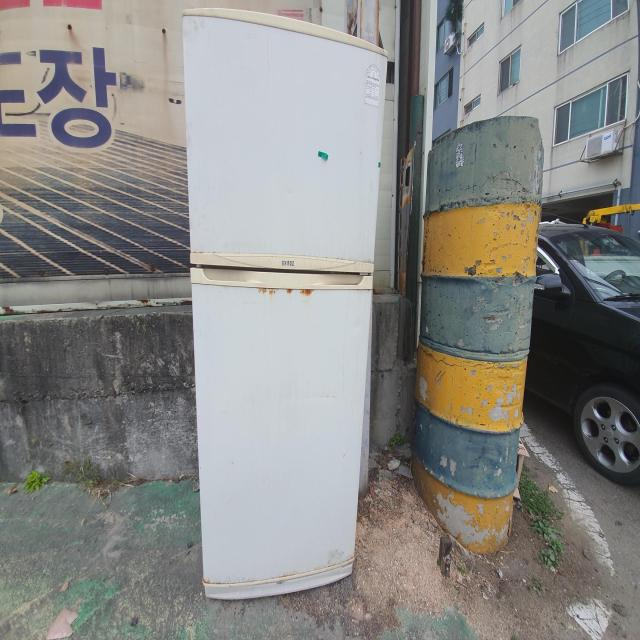refrigerator: (179, 0, 391, 604)
